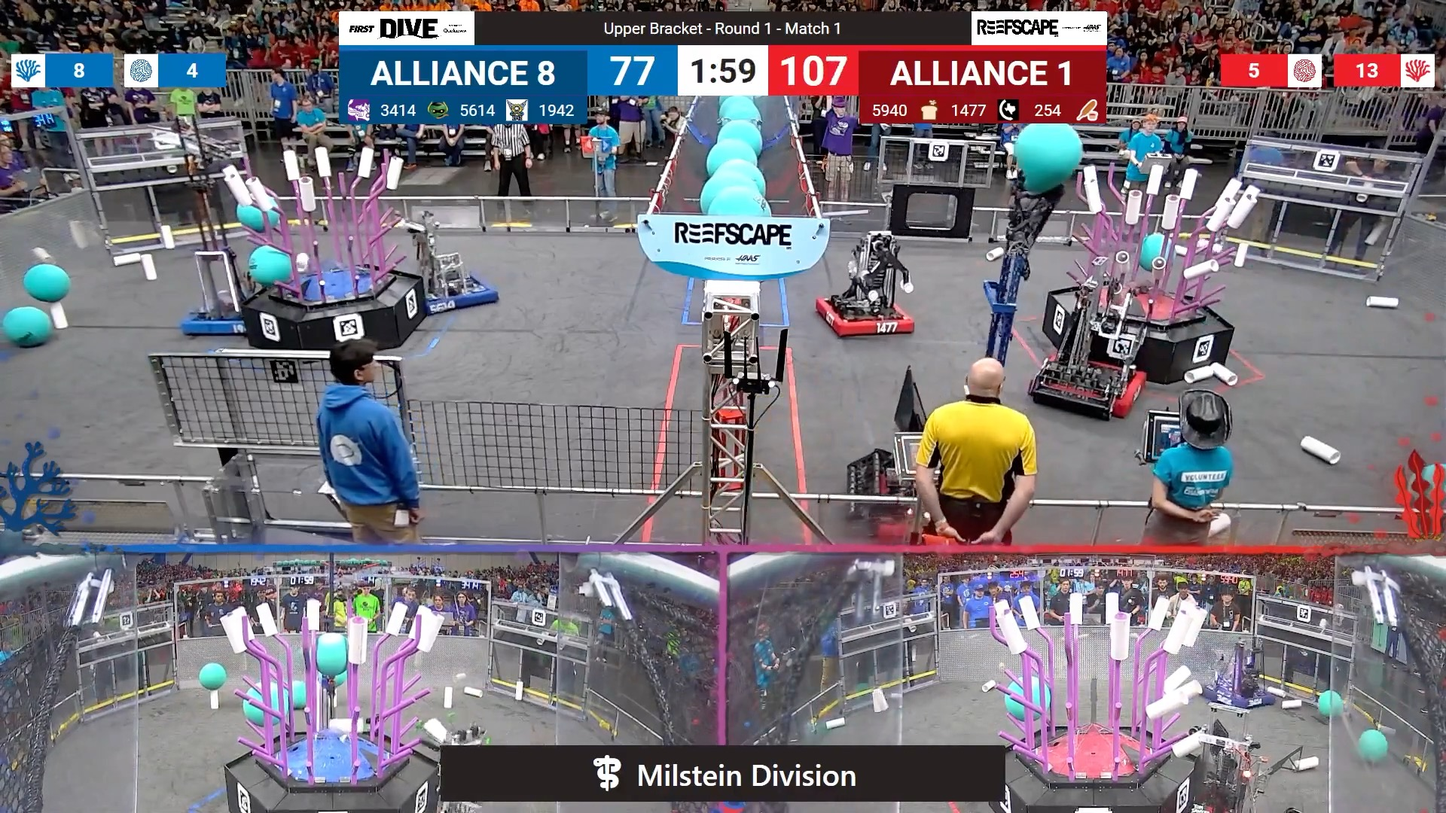bumpers: (1020, 352, 1149, 423), (842, 480, 938, 543), (812, 293, 925, 346), (404, 270, 501, 318), (179, 295, 260, 340), (1194, 680, 1278, 718)
